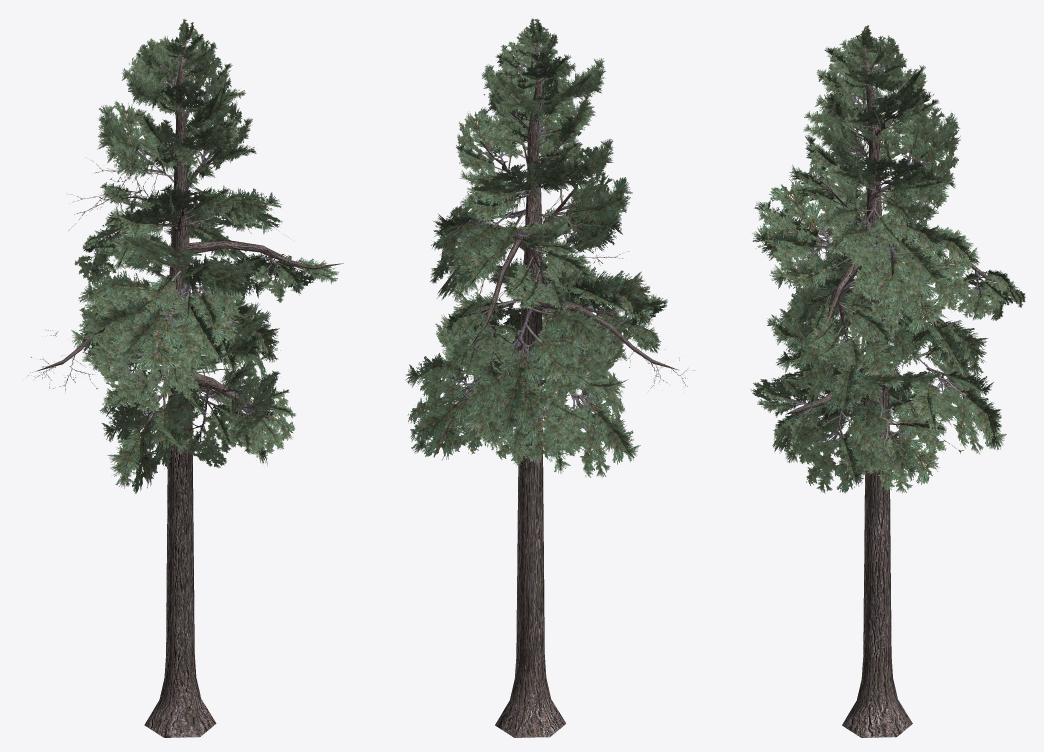
The model's file is ScotsPine2_A.fbx.
The picture shows the model from 3 angles, left to right: view 1: azimuth 30°, elevation 25°; view 2: azimuth 150°, elevation 25°; view 3: azimuth 270°, elevation 25°; orthographic projection.
Parts seen in each view (by area): view 1: ScotsPine; view 2: ScotsPine; view 3: ScotsPine.
Part boxes in pixels (bbox=[...]): ScotsPine: bbox=[27, 19, 343, 737]; ScotsPine: bbox=[405, 18, 695, 737]; ScotsPine: bbox=[750, 25, 1025, 737].
Bounding box in the file's own units: 15.21 × 33.95 × 13.1.
Materials: 2 (2 with a texture image).
